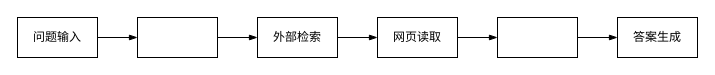
Image size: 715x75. Some labels were removed from this diagram. The shapes that lost their labels are listed below. From the top down, each one's centre as x and y in pixels, then its label:
(x=177, y=37): 查询生成
(x=537, y=37): 证据整理
